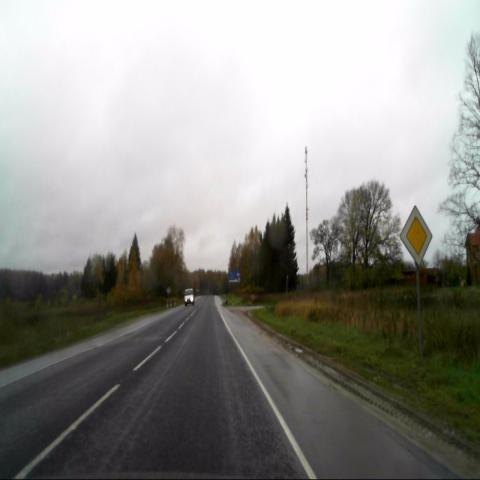2_1: (398, 206, 432, 265)
